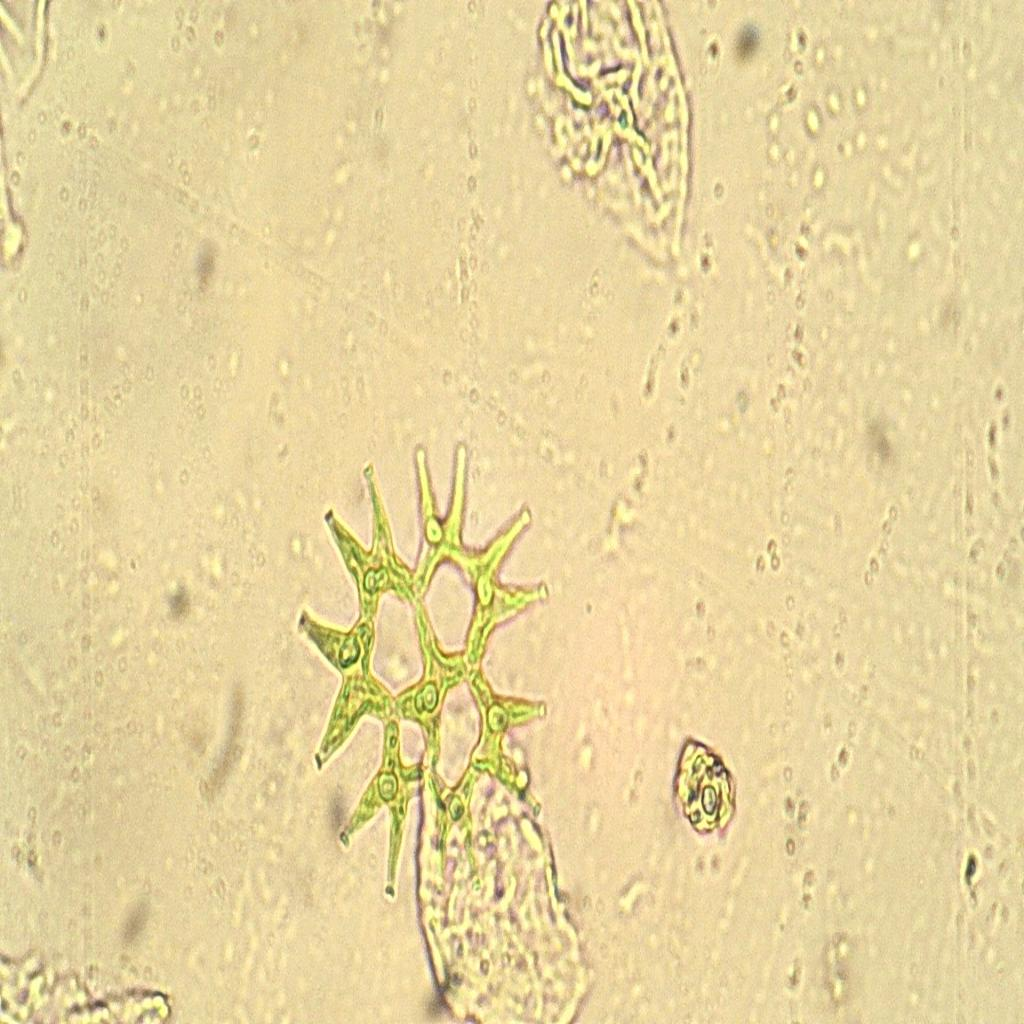Pediastrum_1T: (271, 424, 567, 908)
